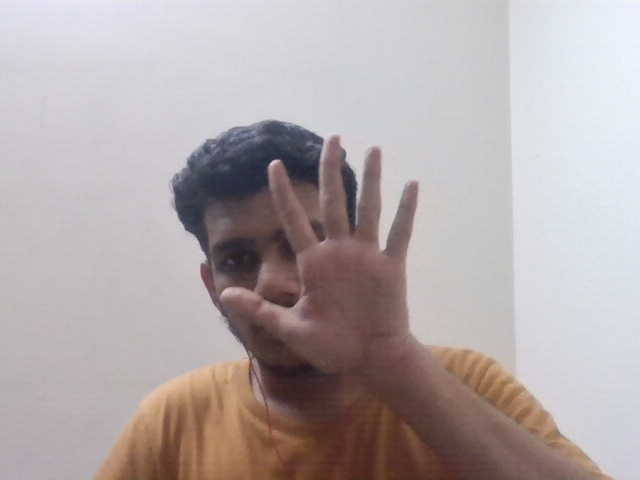hello: (224, 129, 441, 379)
